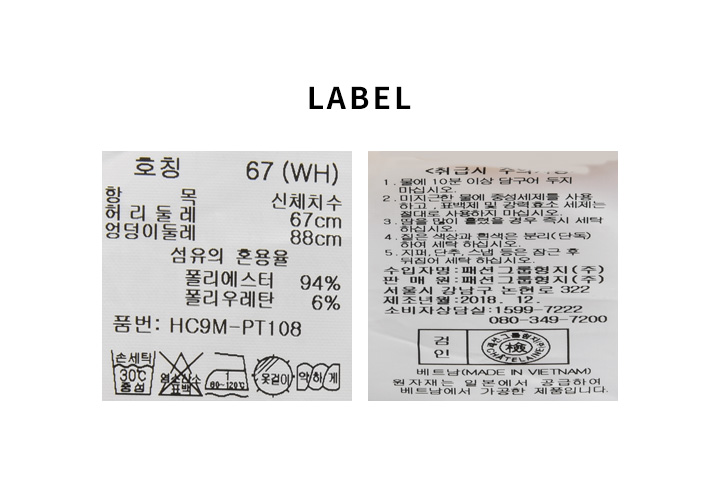KR_gentle_wring: (295, 358, 342, 395)
KR_hand_wash_30_neutral: (108, 347, 156, 398)
KR_hang_dry_in_shade: (252, 352, 295, 397)
KR_iron_low_temp_with_cloth: (207, 349, 250, 400)
KR_no_bleach: (158, 348, 203, 400)
